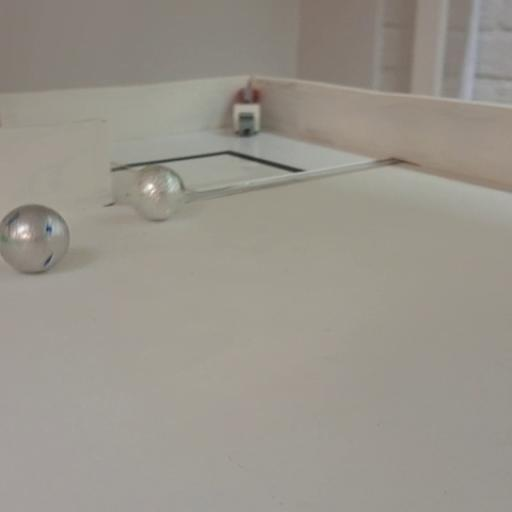alive: (0, 204, 70, 275), (120, 165, 186, 221)
